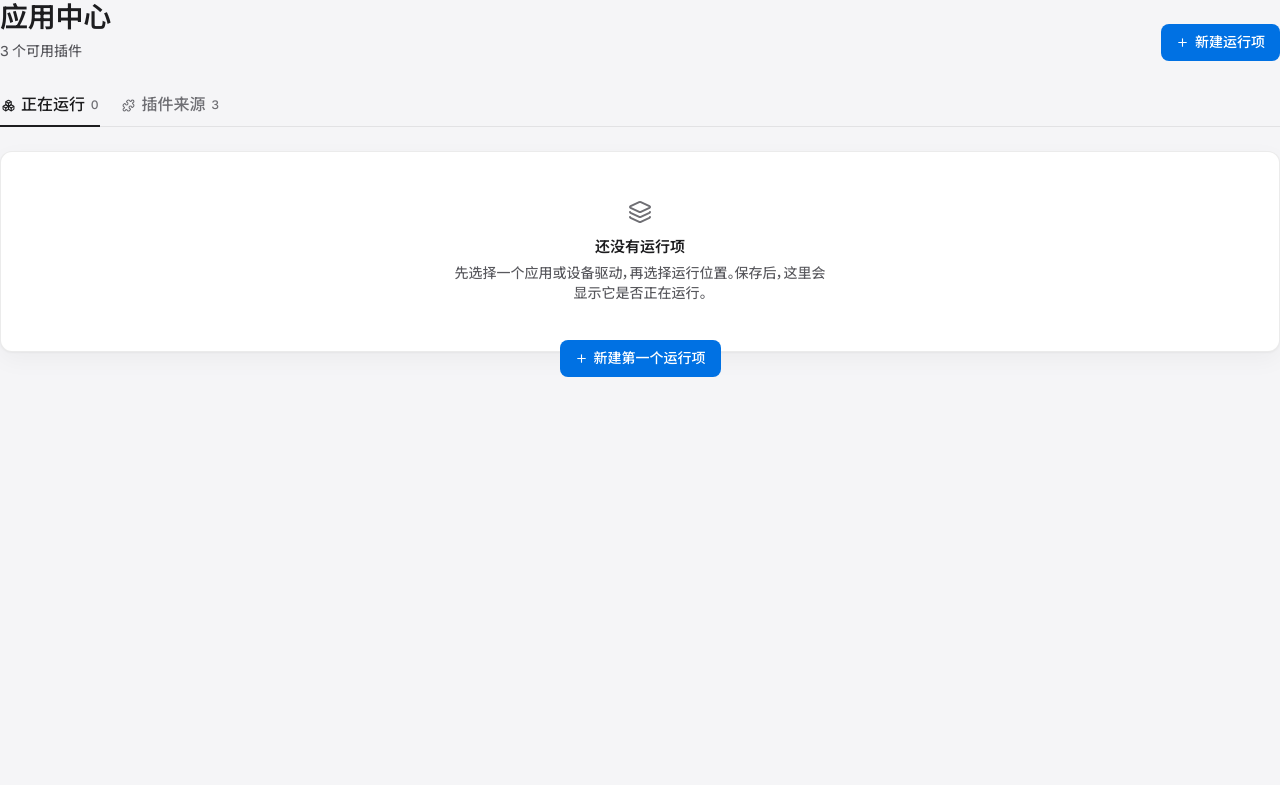
Scenario: 插件面分区 › 可用插件卡片直接进入创建并预选；连接器明确不能创建
Click the tab "插件来源 3" at [171, 110], box [120,93,221,127]
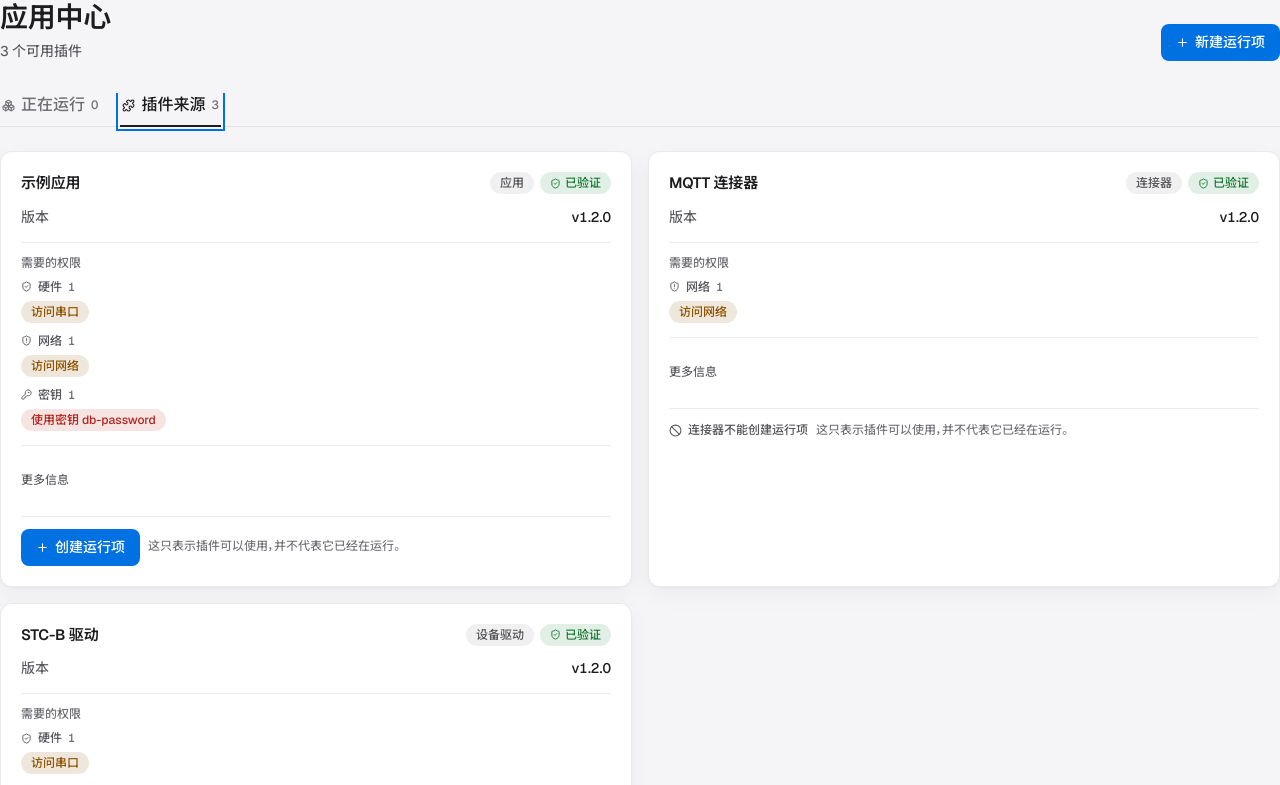
Expected: the text "连接器不能创建运行项" is shown, [669,422,808,438]
Click the button with aria-label "创建运行项：示例应用" at [80, 547], box [21,528,140,566]
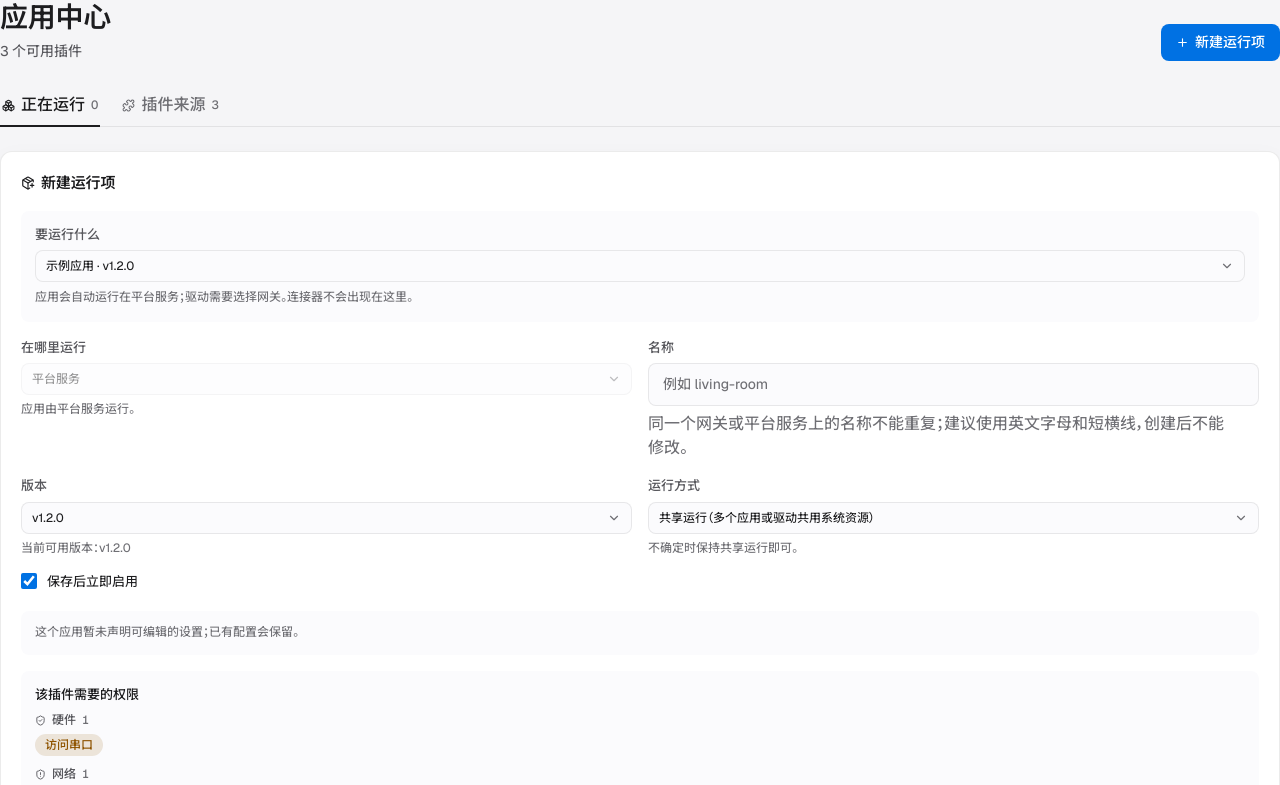
Expected: the label "要运行什么" holds "io.github.acme.application", [35,226,100,242]
